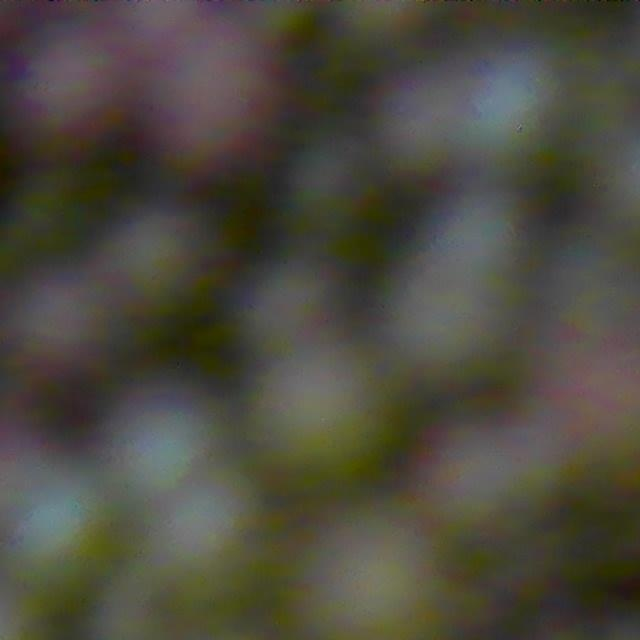SeaGrape: (364, 249, 521, 410), (246, 353, 396, 503), (8, 32, 146, 190), (286, 505, 440, 640), (132, 479, 270, 619), (146, 49, 296, 174), (421, 399, 546, 531), (0, 267, 121, 400), (0, 463, 110, 589), (471, 60, 571, 174), (239, 274, 360, 360), (432, 184, 525, 277), (119, 407, 205, 493)
